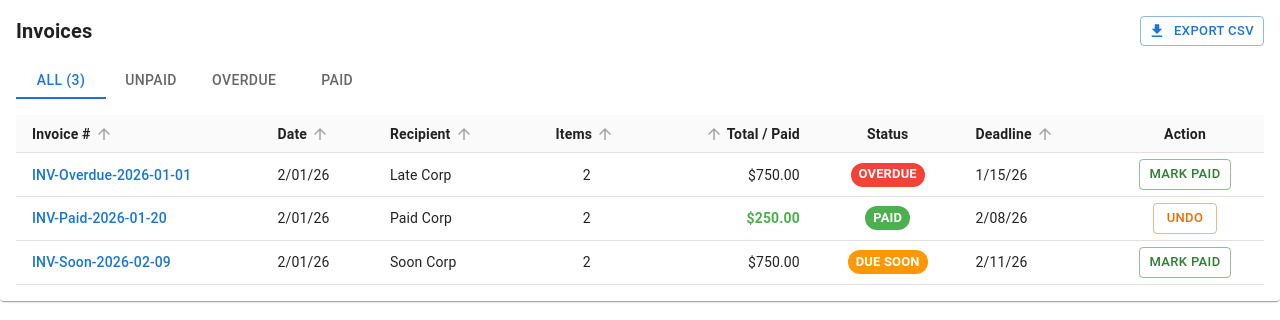
Test: InvoiceListPanel › filters to overdue invoices when Overdue tab is clicked
What coordinates should you click on to do the following:
click the tab "Overdue"
I would click on:
 (244, 81)
Its box is x1=196 y1=63 x2=292 y2=99.
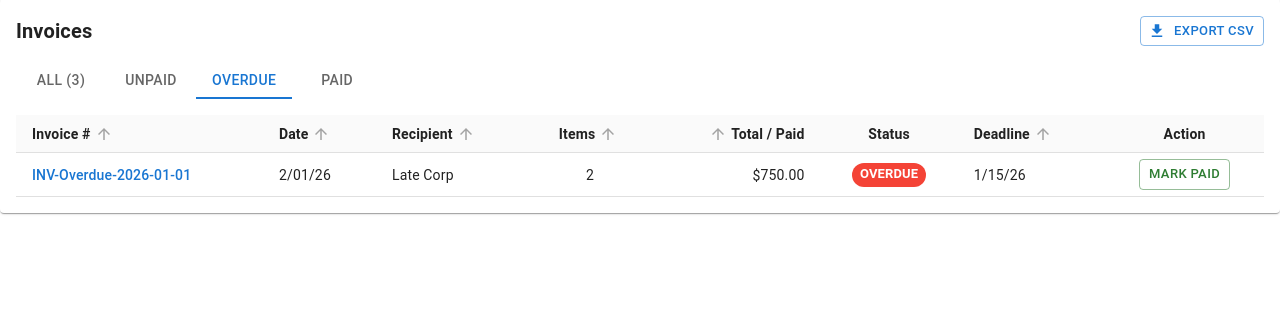
Expected: the text "INV-Overdue-2026-01-01" is shown, x1=16 y1=153 x2=263 y2=197
Now the text "INV-Paid-2026-01-20" is gone
Now the text "INV-Soon-2026-02-09" is gone
